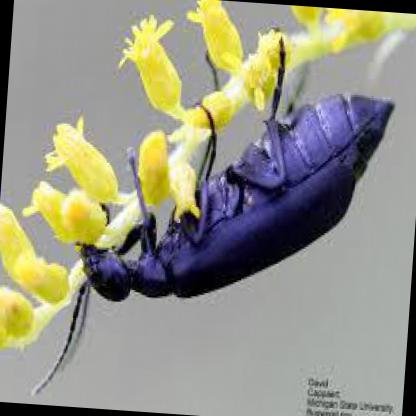blister beetle: (55, 40, 396, 374)
